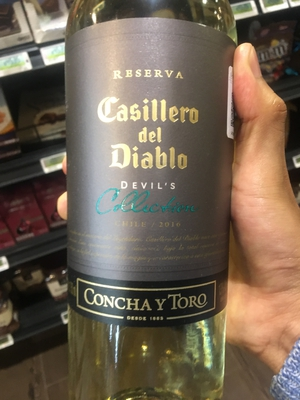casillero del diablo devils collection verde: (59, 14, 243, 400)
